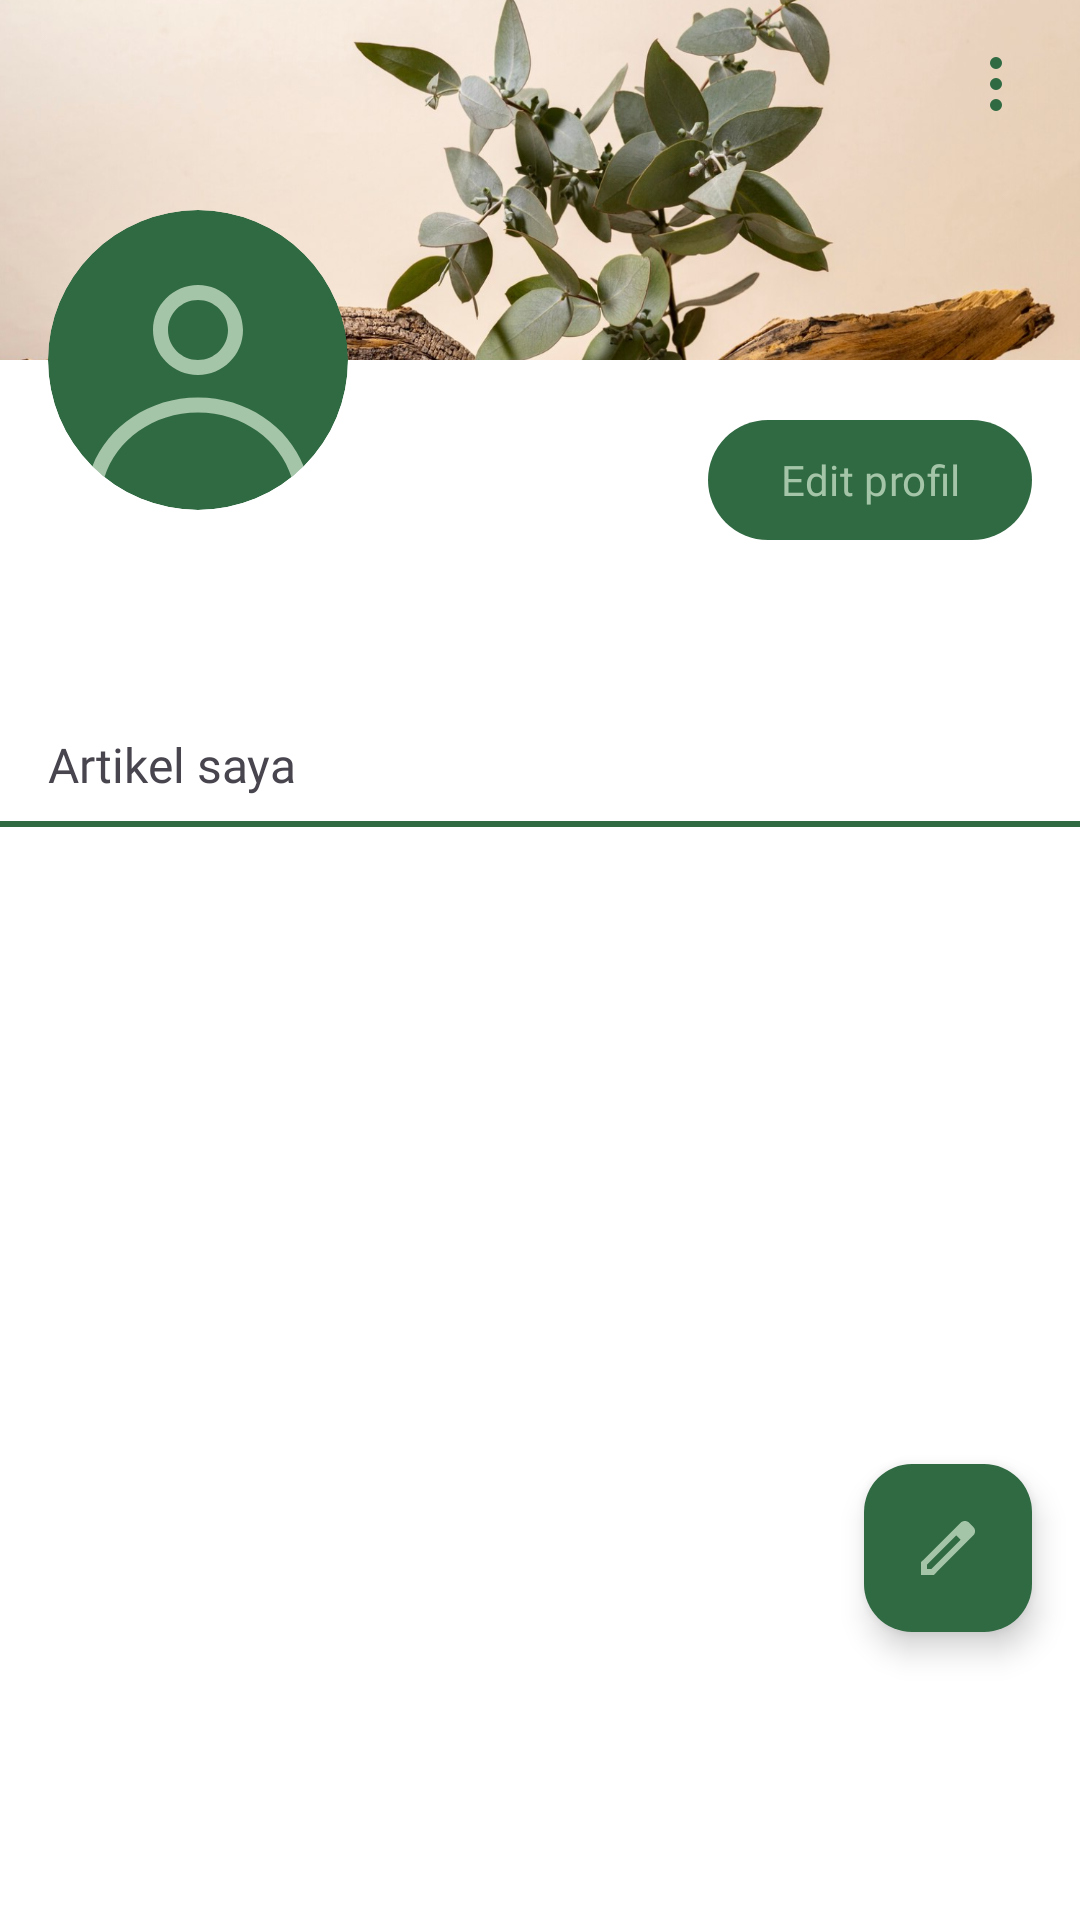

Icon bounding boxes for this 1080w x 1920h phone screenshot, format bbox=[x1, y1, x2, y2]:
pen: bbox=[864, 1464, 1032, 1632]
vertical: bbox=[990, 57, 1002, 111]
